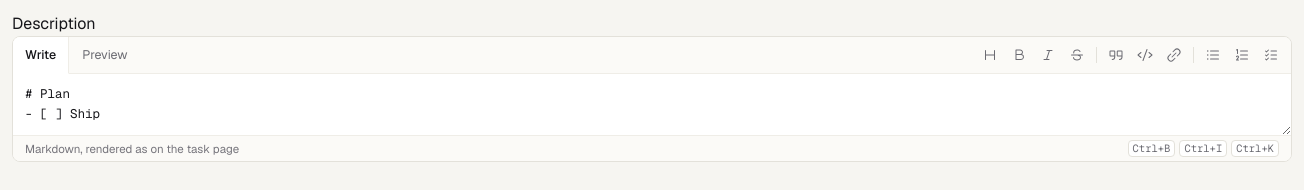
it: MarkdownEditor › previews with the task page's renderer and still submits the text
This screenshot has width=1304, height=190.
Click the button "Preview". click: (105, 56)
box: [69,37,140,74]
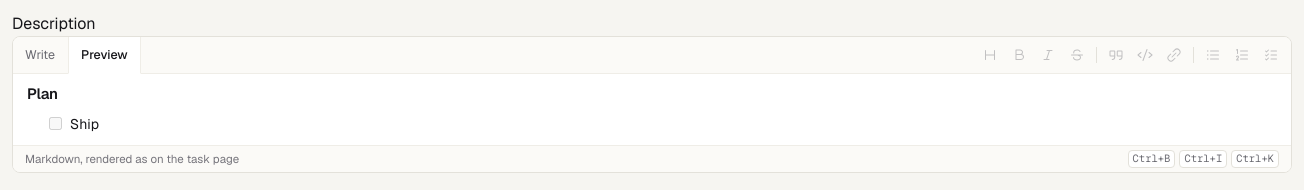
Result: the heading reads "Plan" at [27,84,58,103]
Result: the checkbox is disabled at [49,117,62,130]
Result: the button named "Bold" is disabled at [1005,41,1033,69]
Click the button "Write". click: (41, 56)
box: [13,37,68,74]
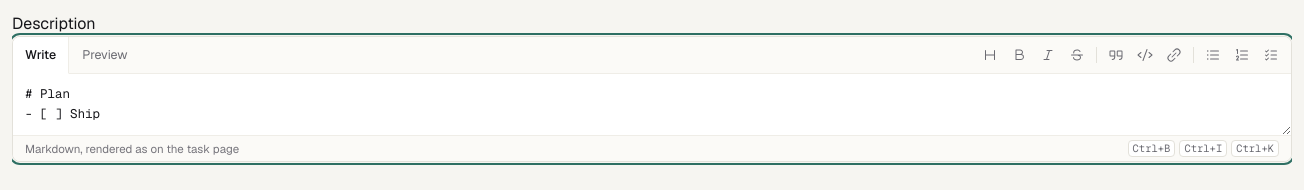
Result: the text box labelled "Description" is shown at [13,74,1291,135]
